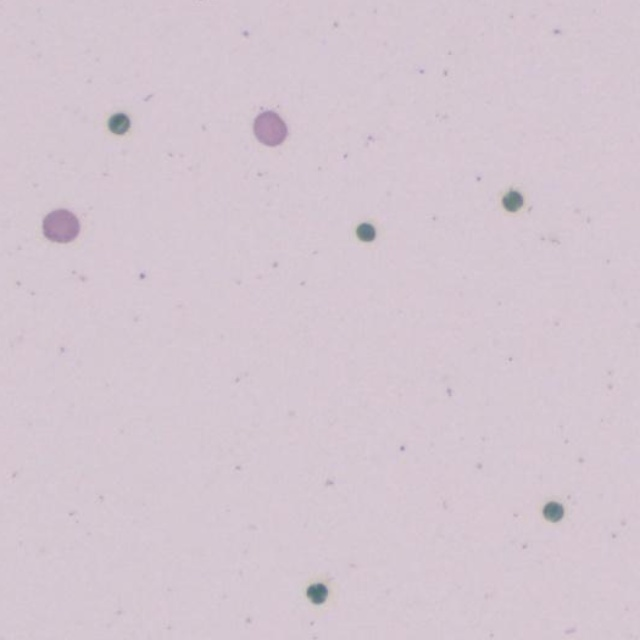intermediate: (43, 208, 79, 241), (254, 111, 288, 145)
non_viable: (107, 113, 129, 134), (502, 189, 523, 211), (542, 501, 563, 522), (306, 583, 327, 603), (356, 223, 374, 241)
